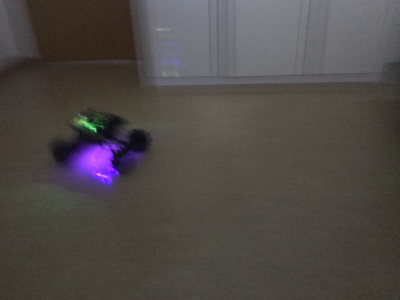remote control car: (47, 107, 154, 180)
